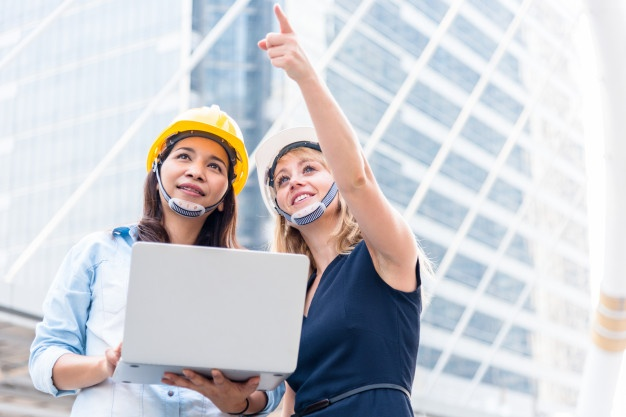white: (254, 123, 351, 236)
yellow: (148, 106, 248, 221)
